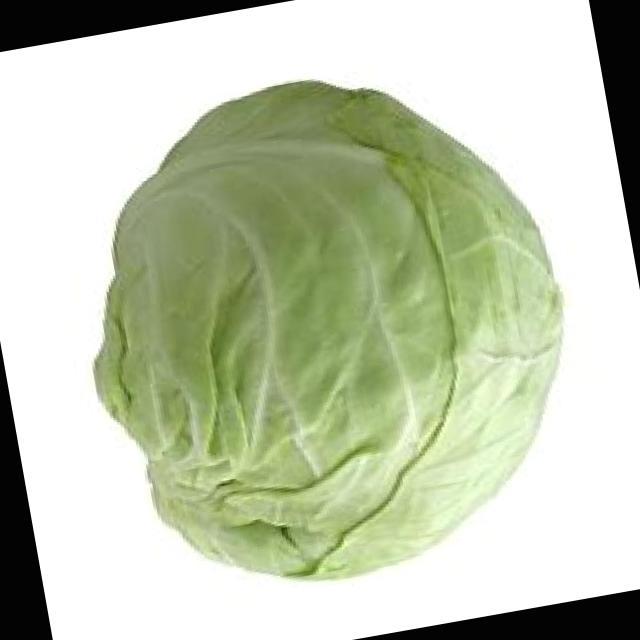cabbage: (89, 78, 563, 583)
